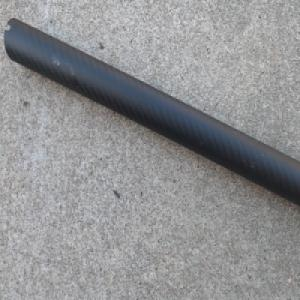LuggagePart: (2, 16, 300, 207)
